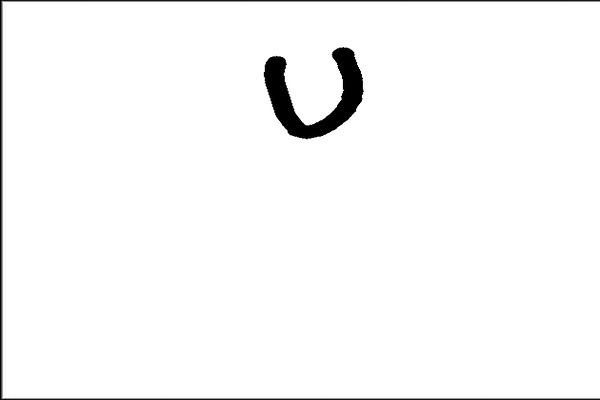U: (248, 46, 366, 143)
